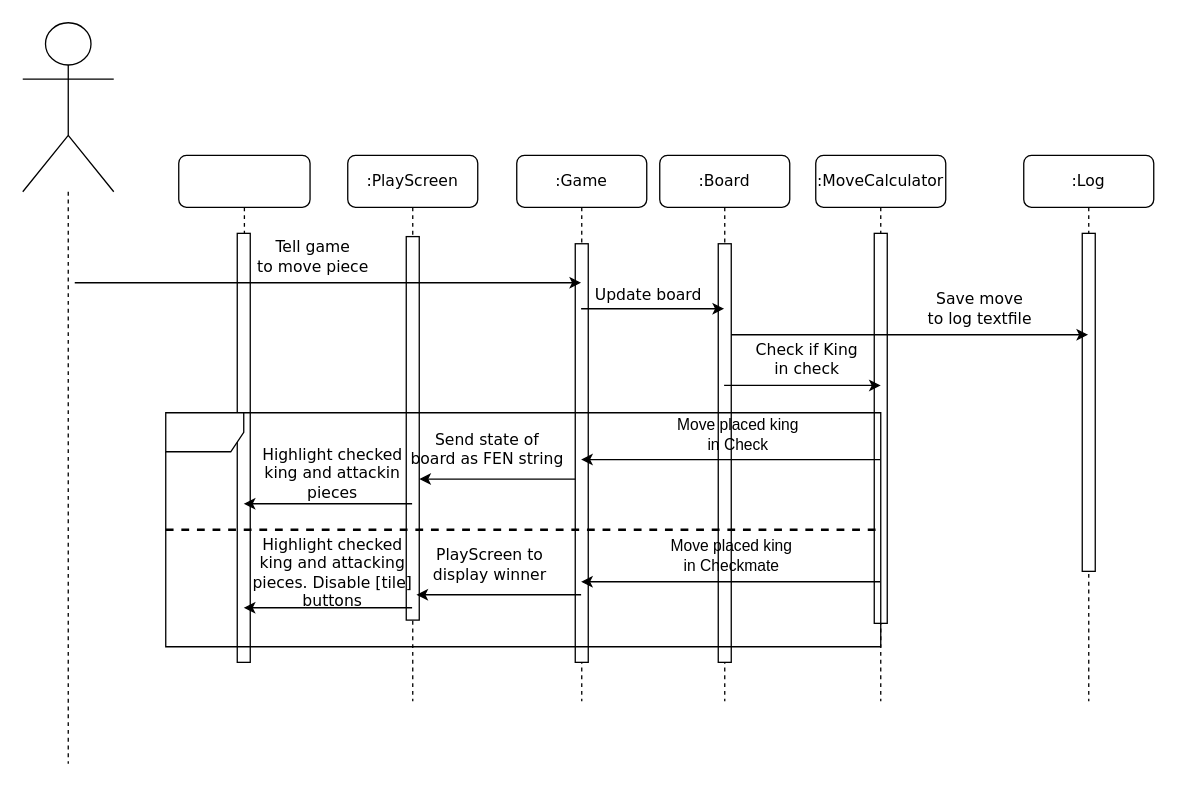
The diagram is 1177 pixels wide and 788 high, and some of its shapes have lost their labels. Here are the shapes that lost their labels. From the top down, the box of each, then its label:
(177, 154, 310, 662): :Chessboard
(164, 411, 881, 647): Alternative
